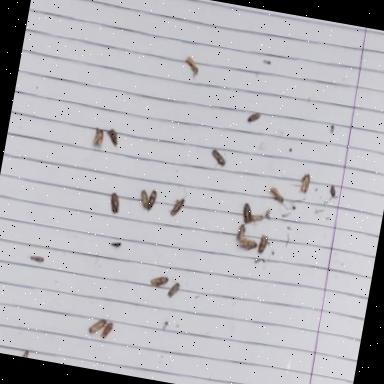pbw: (87, 318, 106, 338), (168, 198, 184, 220), (90, 128, 104, 150), (208, 150, 225, 168), (107, 194, 120, 216), (148, 276, 168, 290), (144, 190, 156, 213), (240, 204, 252, 226), (298, 174, 310, 196), (267, 189, 284, 204), (104, 130, 118, 148), (137, 191, 149, 211), (100, 323, 112, 342), (166, 283, 179, 300), (256, 236, 267, 256), (238, 240, 256, 252), (234, 225, 245, 243), (246, 112, 260, 126)
